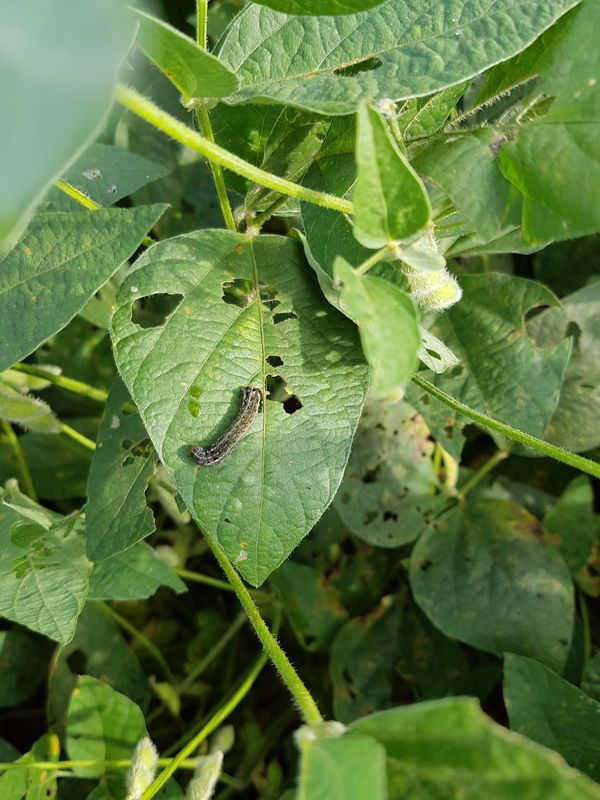Spodoptera_albula: (180, 378, 270, 473)
